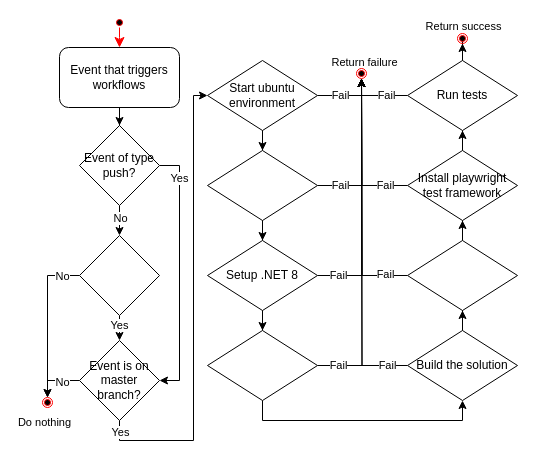
Some shapes in this 535 by 466 pixel diagram are drawn without their labels. The shapes that lost their labels are listed below. From the top down, each one's box as (x1, y1, x2, y2) in pixels, then its label:
(206, 150, 318, 220): Checkout triggering branch
(78, 234, 160, 316): Even of type pull request?
(406, 240, 518, 310): Run solution on localhost
(206, 330, 318, 400): Restore dependencies
